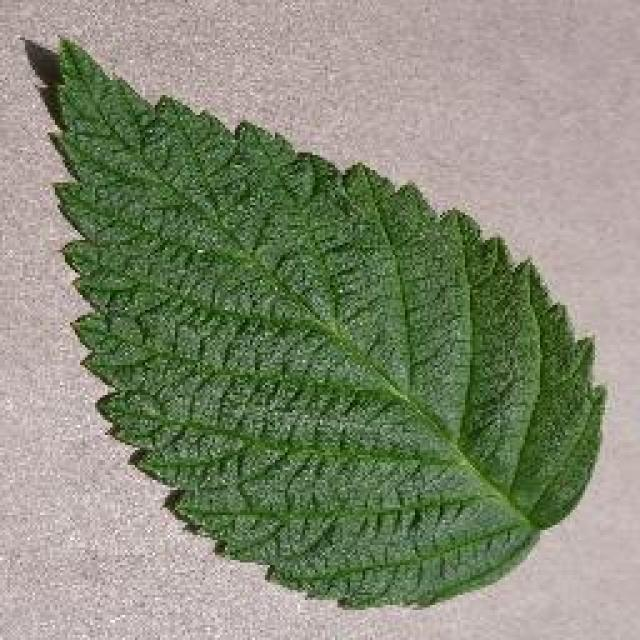Ras_healthy: (50, 125, 569, 569)
